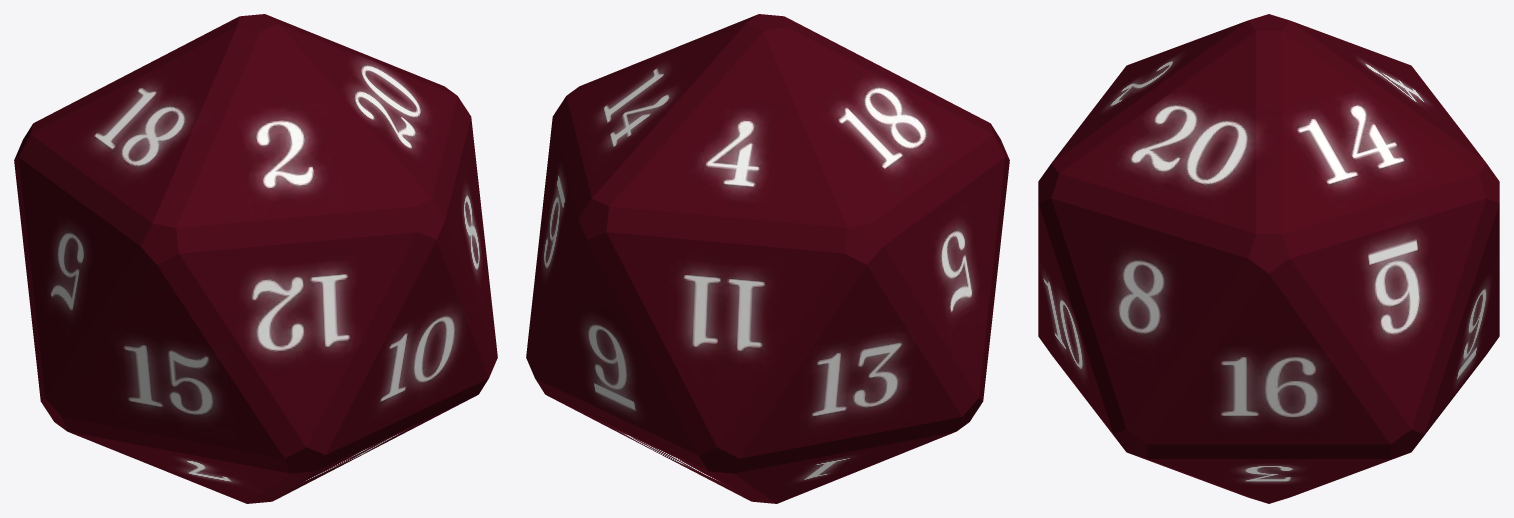
The model's file is D20Disadvantage.glb.
The picture shows the model from 3 angles, left to right: view 1: azimuth 30°, elevation 25°; view 2: azimuth 150°, elevation 25°; view 3: azimuth 270°, elevation 25°; orthographic projection.
Visible parts, largest first — view 1: D20Disadvantage; view 2: D20Disadvantage; view 3: D20Disadvantage.
Part boxes in pixels (x1,y1,x2,y2): D20Disadvantage: (14, 14, 497, 503); D20Disadvantage: (526, 14, 1009, 503); D20Disadvantage: (1038, 14, 1499, 503).
Bounding box in the file's own units: 2.8 × 3.01 × 2.66.
Materials: 1 (1 with a texture image).
